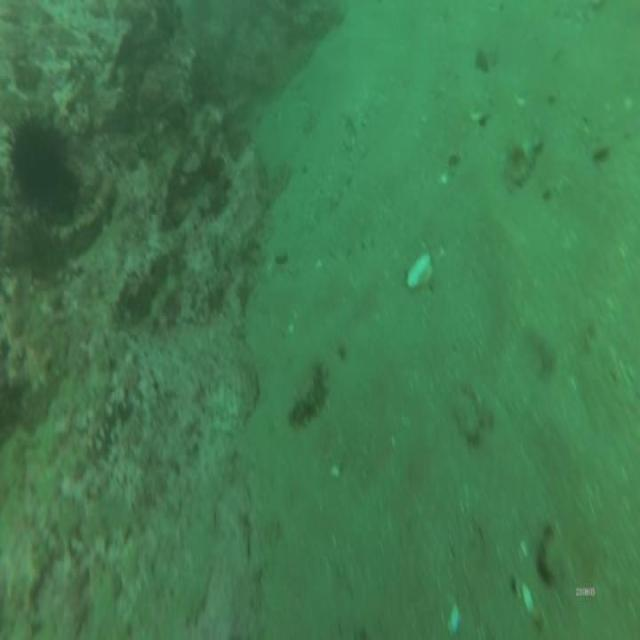echinus: (10, 111, 76, 218)
holothurian: (287, 357, 328, 430)
